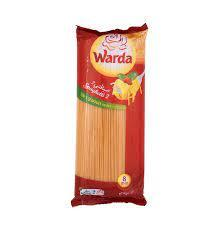Spaghetti: (78, 27, 143, 200)
